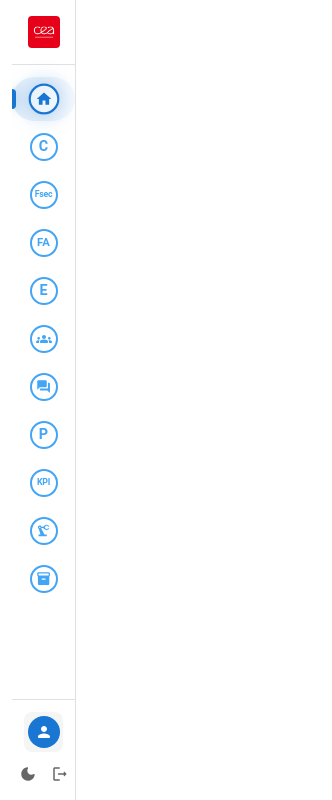
it: Sidebar — flyout en mode replié › navigue vers le sous-item choisi puis ferme le menu
This screenshot has width=332, height=800.
Click the button named "Équipe et Carte" at (44, 339), box [30,325,58,353]
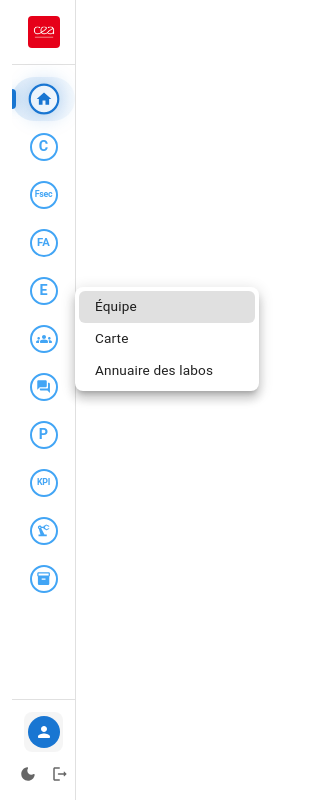
Click the menu item "Carte" at (112, 338), box [95,330,129,346]
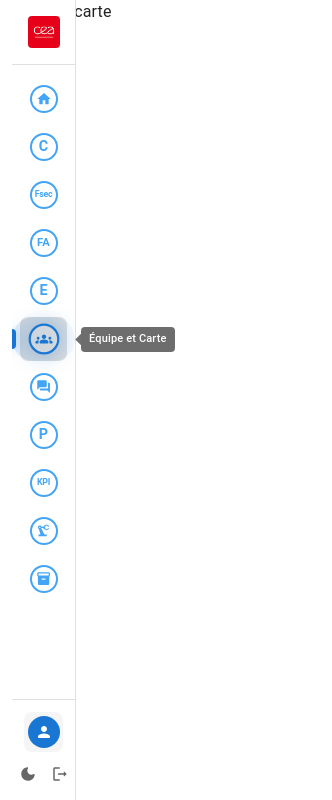
Expected: the text with test id "pathname" reads "/equipe/carte", [12,2,112,21]
Expected: the menu is gone
